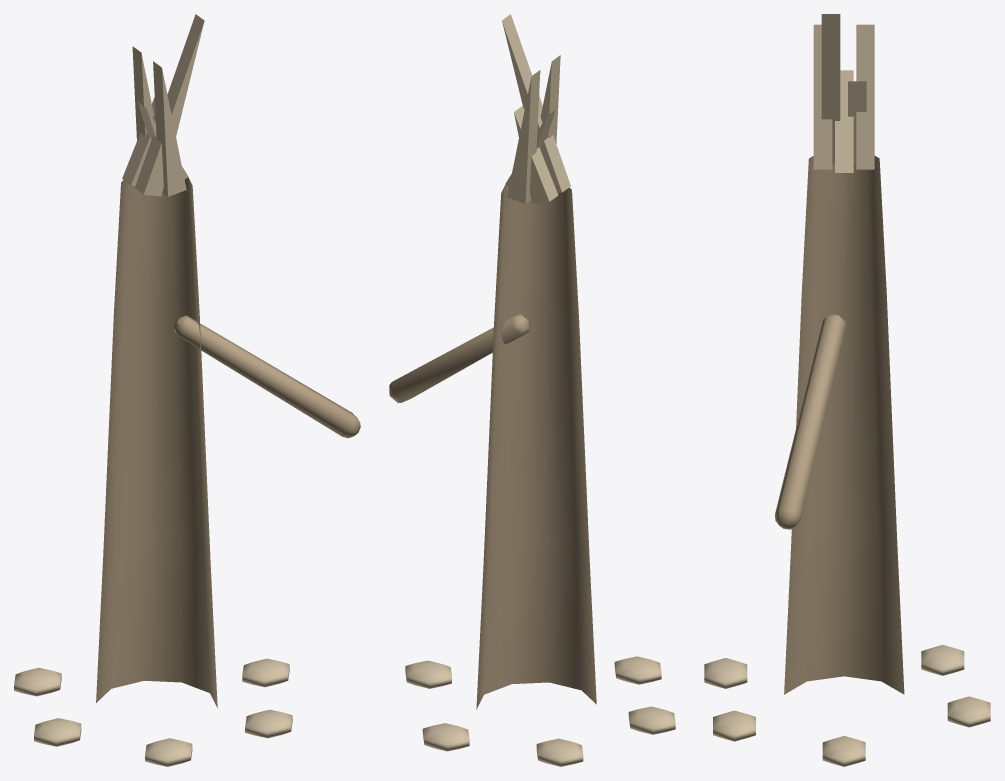
The model's file is trench-line-1917-splintered-tree-21d3db64__24085.glb.
3 renders of one model, left to right at view 1: azimuth 30°, elevation 25°; view 2: azimuth 150°, elevation 25°; view 3: azimuth 270°, elevation 25°, orthographic. The views are drawn at different scales.
Parts seen in each view (by area): view 1: splintered-tree; view 2: splintered-tree; view 3: splintered-tree.
Boxes of the visible parts, <box> form: splintered-tree: <box>14,14,360,766</box>; splintered-tree: <box>389,14,675,766</box>; splintered-tree: <box>704,14,990,766</box>.
Size of the model in its own units: 1.97 by 4.22 by 1.54.
